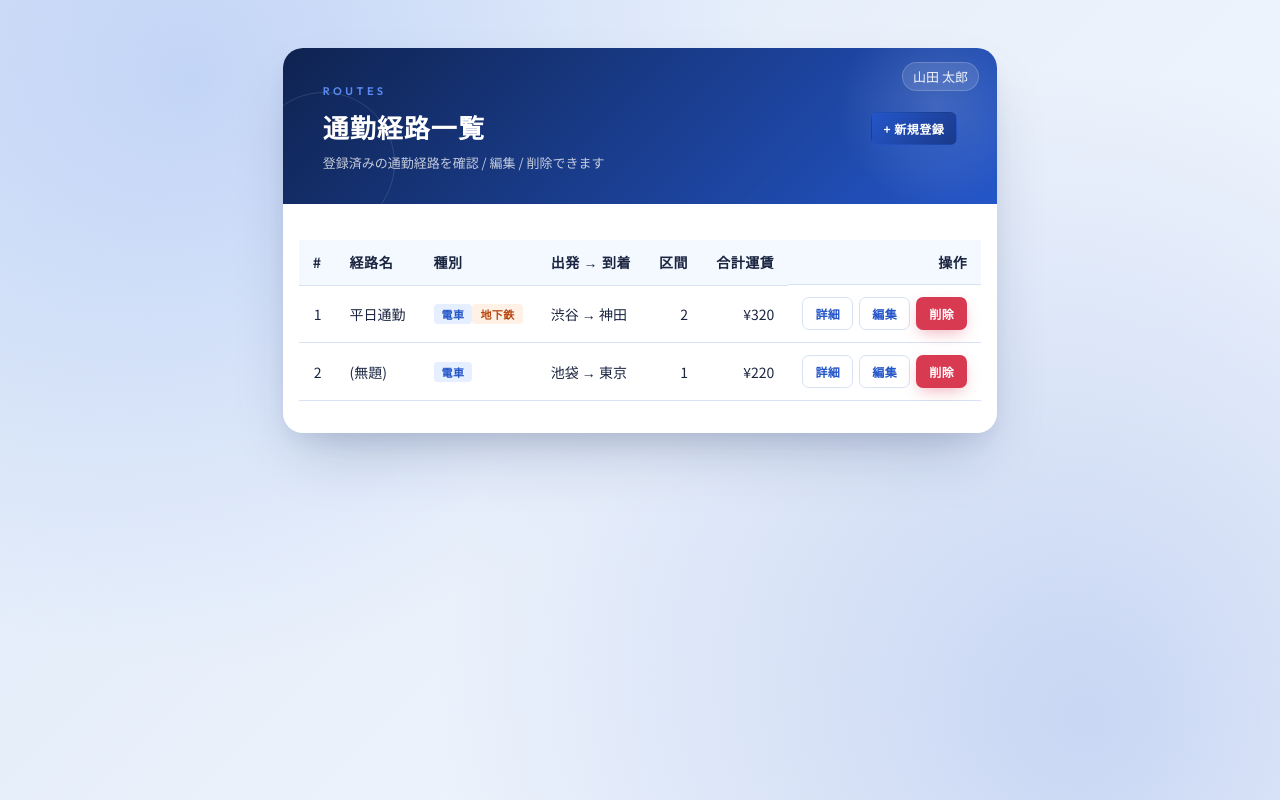
Scenario: RouteList › 削除 (US-007) › OK 押下で DELETE が走り, 行が消えて成功バナーが出る
The width and height of the screenshot is (1280, 800).
Expected: the text "平日通勤" is shown, [336,285,420,342]
What coordinates should you click on to do the following:
click the button "削除" in the row of "平日通勤"
I would click on:
 (942, 314)
Its box is [916,297,967,330].
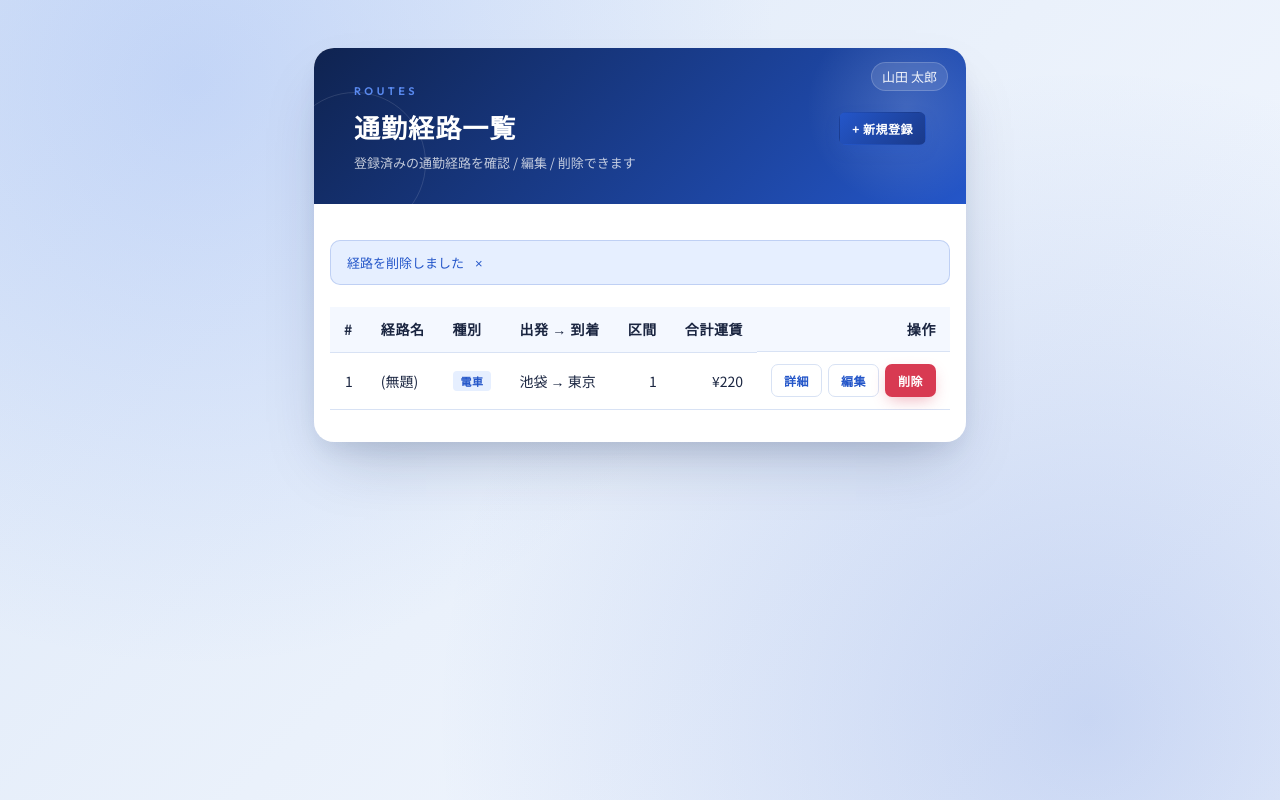
Expected: the text "(無題)" is shown, [367,352,438,410]
Now the text "平日通勤" is gone
Now the text "経路を削除しました ×" is shown, box [330,240,950,285]
